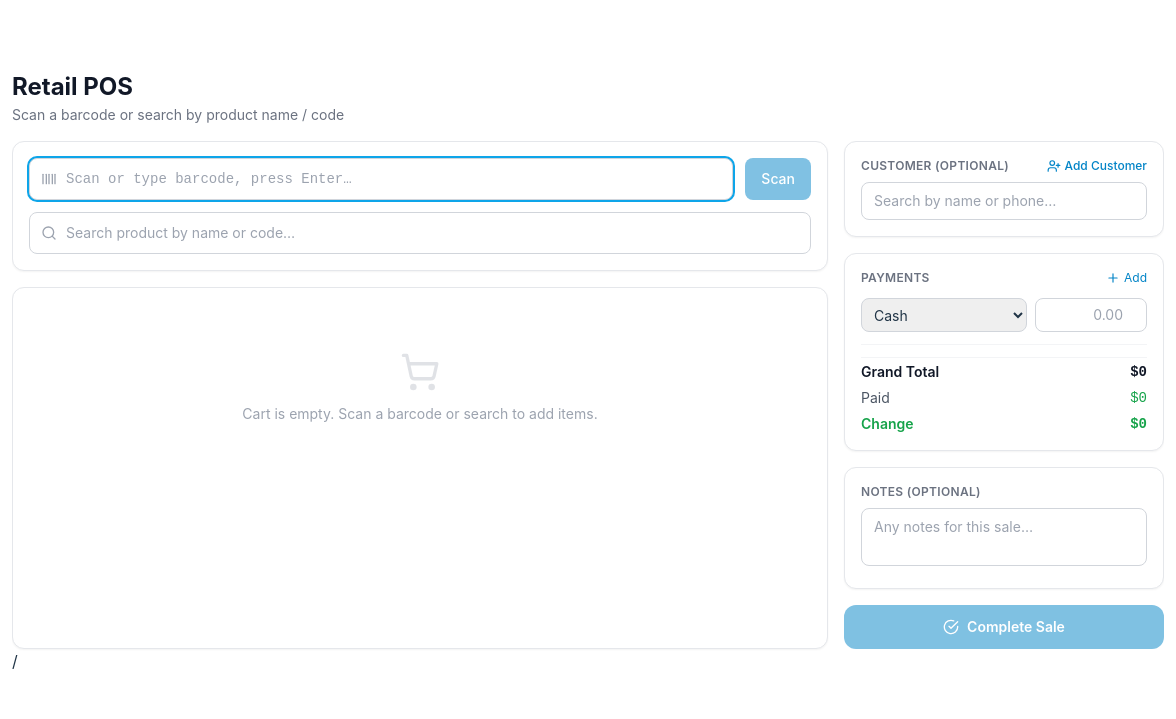
Test: Retail POS › blocks a discount larger than the line amount
The image size is (1176, 719).
Type "0828156987886" into the field labelled "barcode" at [381, 179], box x1=29 y1=158 x2=733 y2=200
Then press Enter
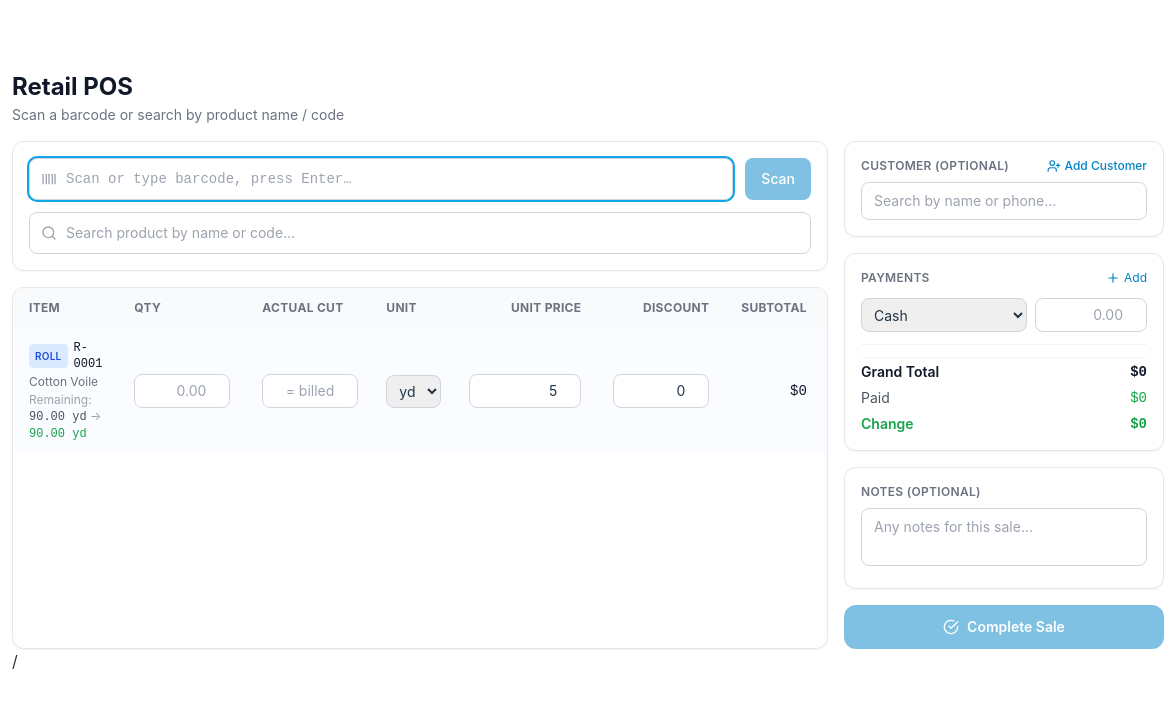
Check: the text "R-0001" is shown, box x1=74 y1=340 x2=102 y2=372
Type "1" into the number field with placeholder "0.00" below "Roll" at [182, 391], box x1=134 y1=374 x2=230 y2=408
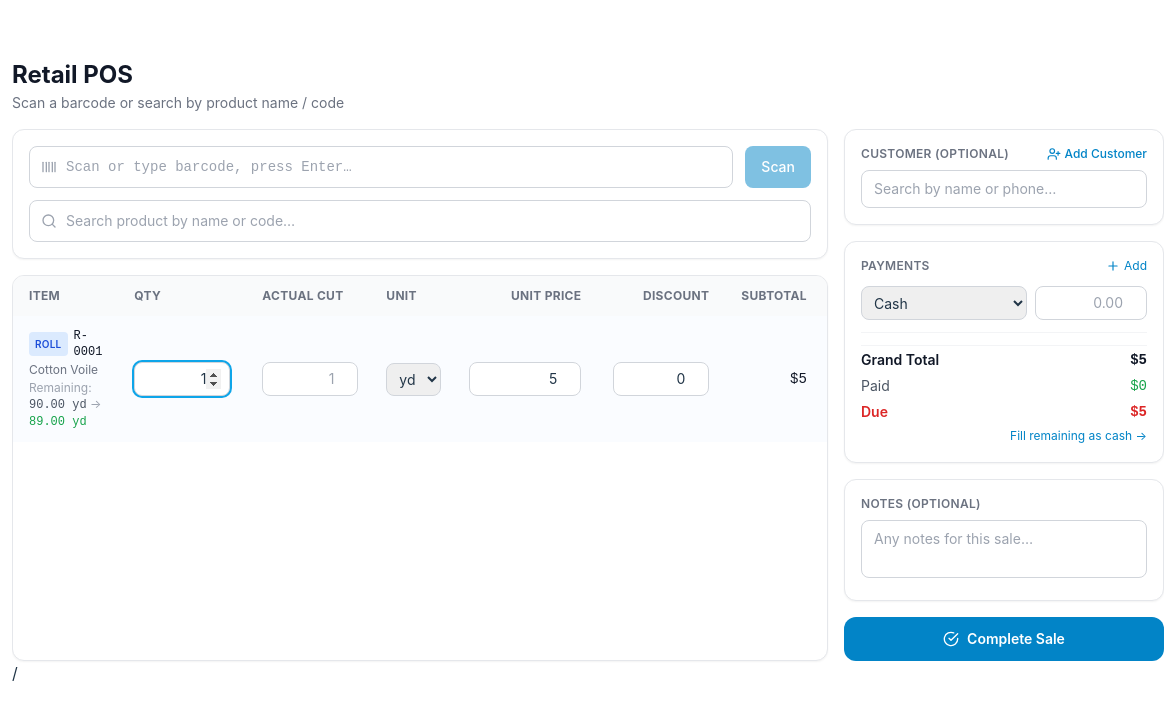
Replace the text in the number field named "Discount for R-0001" with "6" at [661, 379], box x1=613 y1=362 x2=709 y2=396
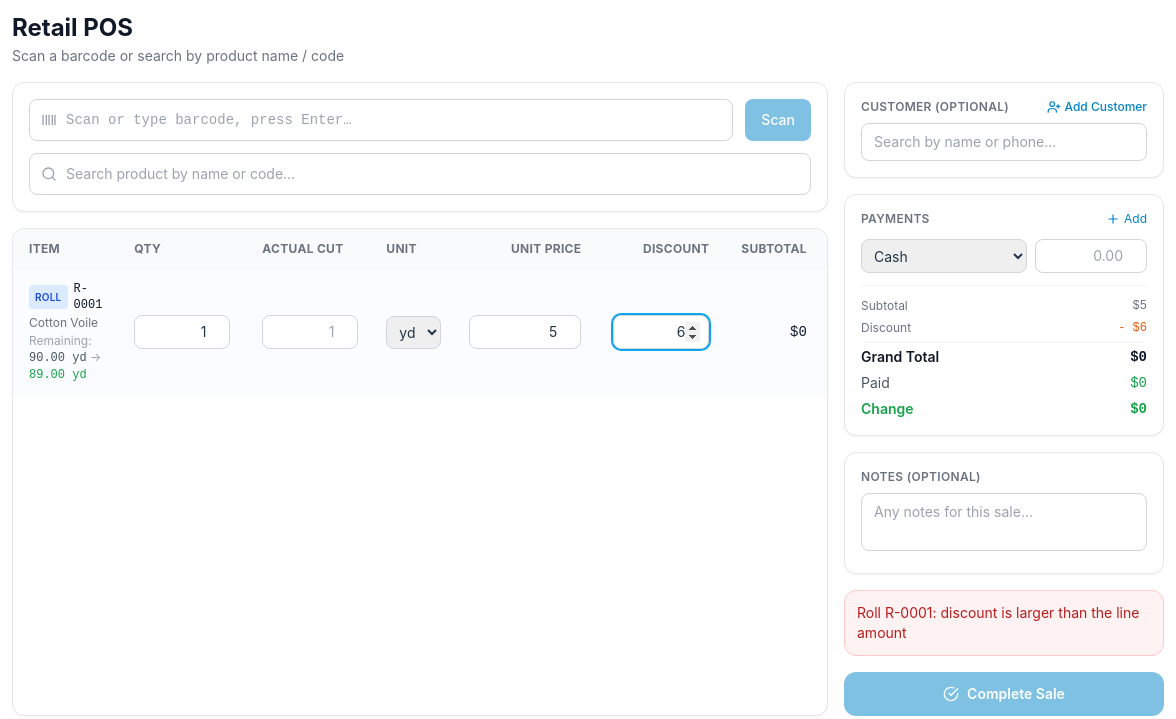
Check: the message shows "discount is larger than the line amount", box x1=857 y1=604 x2=1139 y2=641
Check: the button "Complete Sale" is disabled, box x1=844 y1=672 x2=1164 y2=716
